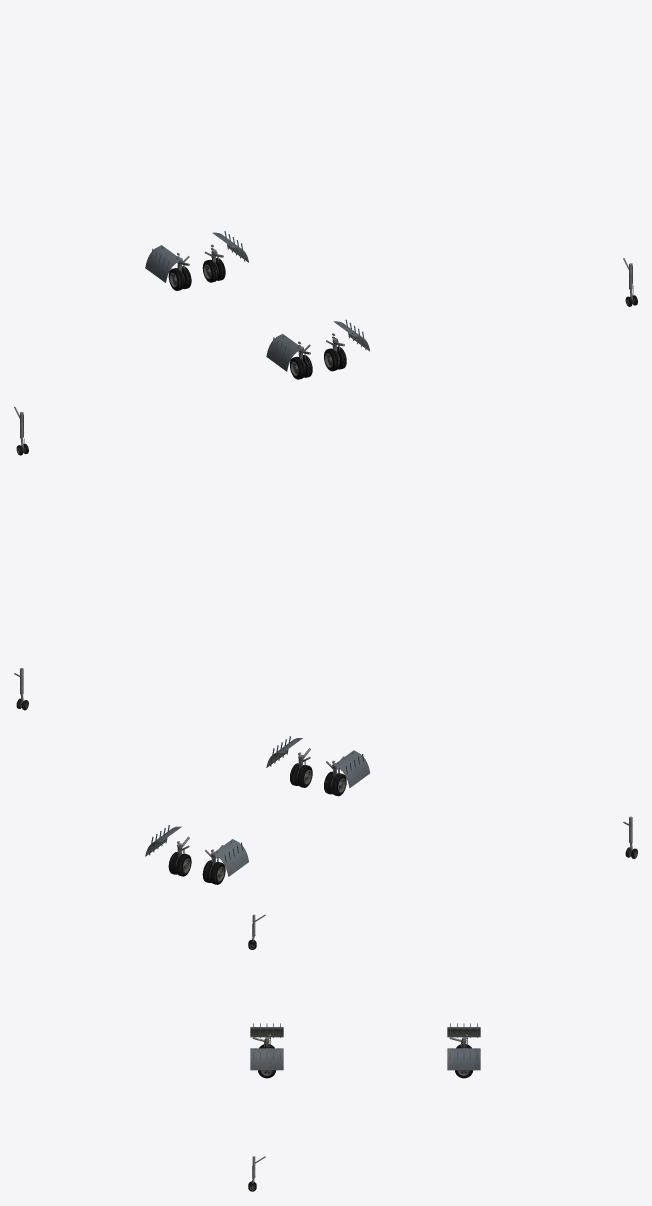
File: b52_gear.glb
The picture shows the model from 3 angles, top to bottom: view 1: azimuth 30°, elevation 25°; view 2: azimuth 150°, elevation 25°; view 3: azimuth 270°, elevation 25°; orthographic projection. The views are drawn at different scales.
Parts seen in each view (by area): view 1: door_r_l, door_f_l; view 2: door_f_l, door_r_l, gear_f_r, gear_r_r; view 3: door_f_r, door_r_r.
Boxes of the visible parts, bbox=[...] form: door_r_l: bbox=[266, 334, 302, 371]; door_f_l: bbox=[145, 245, 181, 282]; door_f_l: bbox=[212, 839, 248, 876]; door_r_l: bbox=[333, 750, 369, 788]; gear_f_r: bbox=[168, 836, 191, 876]; gear_r_r: bbox=[290, 748, 312, 787]; door_f_r: bbox=[447, 1048, 480, 1070]; door_r_r: bbox=[250, 1048, 283, 1070].
Size of the model in its own units: 45.32 by 13.47 by 48.78.
Materials: 1 (1 with a texture image).
